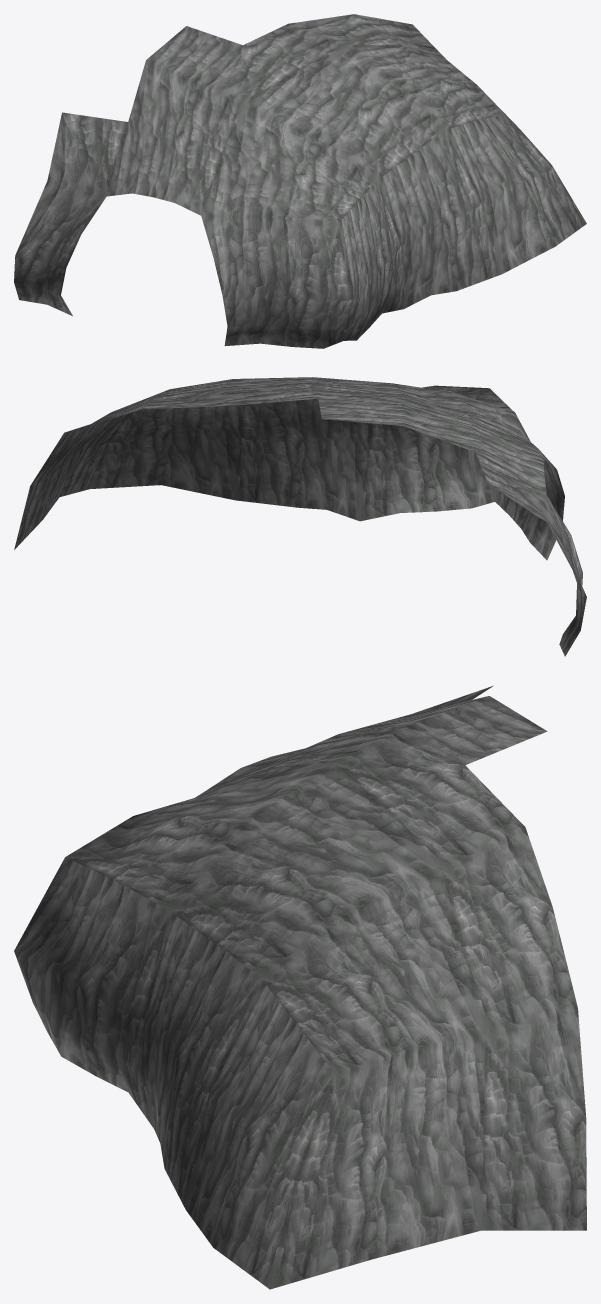
Rendered from SWORDLIGHT20_PS-AREA03-05TRANS_06.fbx.
The picture shows the model from 3 angles, top to bottom: view 1: azimuth 30°, elevation 25°; view 2: azimuth 150°, elevation 25°; view 3: azimuth 270°, elevation 25°; orthographic projection. The views are drawn at different scales.
Visible parts, largest first — view 1: SWORDLIGHT20_PS-AREA03-05TRANS_06; view 2: SWORDLIGHT20_PS-AREA03-05TRANS_06; view 3: SWORDLIGHT20_PS-AREA03-05TRANS_06.
Part boxes in pixels (<box>): SWORDLIGHT20_PS-AREA03-05TRANS_06: <box>14,14,586,348</box>; SWORDLIGHT20_PS-AREA03-05TRANS_06: <box>14,377,586,656</box>; SWORDLIGHT20_PS-AREA03-05TRANS_06: <box>14,685,586,1289</box>.
Bounding box in the file's own units: 236290 × 91717 × 144554.
Materials: 1 (1 with a texture image).
